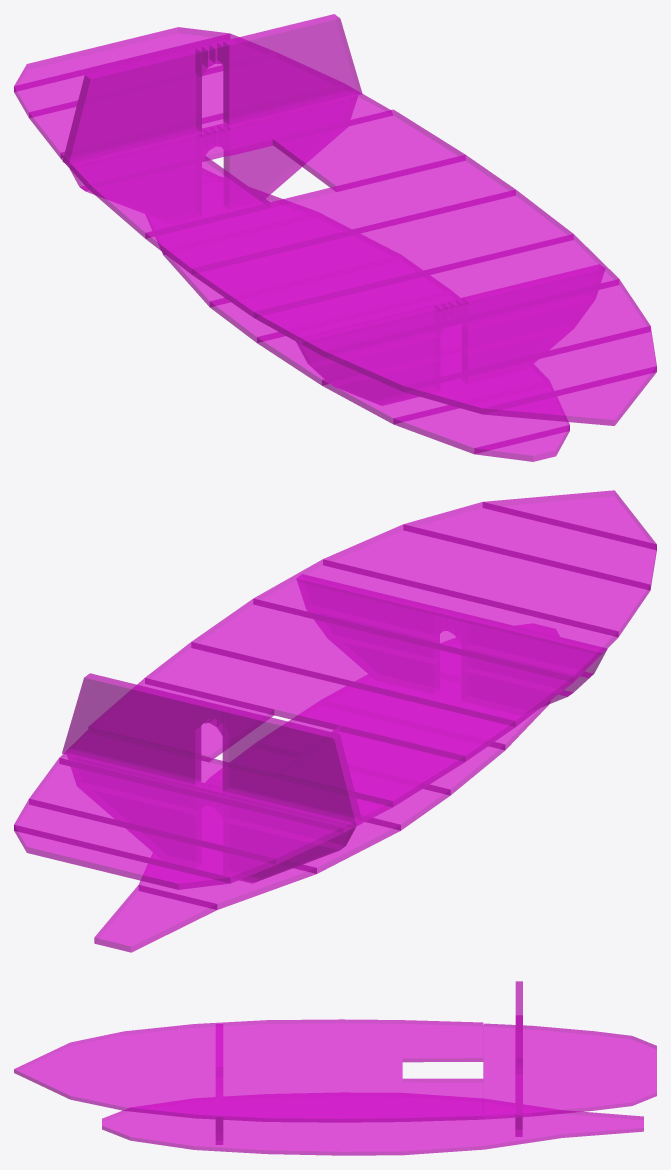
The model's file is SM_Veh_Ship_L_Floor_01_Collision.fbx.
The picture shows the model from 3 angles, top to bottom: view 1: azimuth 30°, elevation 25°; view 2: azimuth 150°, elevation 25°; view 3: azimuth 270°, elevation 25°; orthographic projection. The views are drawn at different scales.
Visible parts, largest first — view 1: SM_Veh_Ship_L_Floor_01_Collision; view 2: SM_Veh_Ship_L_Floor_01_Collision; view 3: SM_Veh_Ship_L_Floor_01_Collision.
Boxes of the visible parts, bbox=[...] form: SM_Veh_Ship_L_Floor_01_Collision: bbox=[14, 14, 656, 461]; SM_Veh_Ship_L_Floor_01_Collision: bbox=[14, 490, 656, 952]; SM_Veh_Ship_L_Floor_01_Collision: bbox=[14, 981, 656, 1155].
Size of the model in its own units: 1211 by 605 by 3310.
